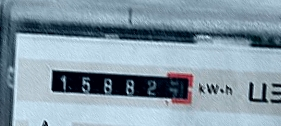1: (57, 72, 69, 91)
2: (145, 77, 158, 96)
5: (79, 75, 92, 93)
7: (167, 86, 179, 98)
8: (100, 75, 114, 93), (123, 76, 136, 95)
screen: (42, 58, 199, 111)
